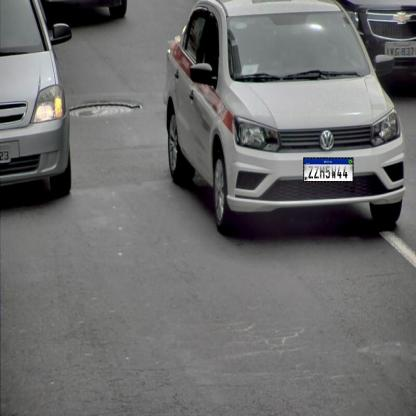PlacaM: (303, 158, 354, 182)
